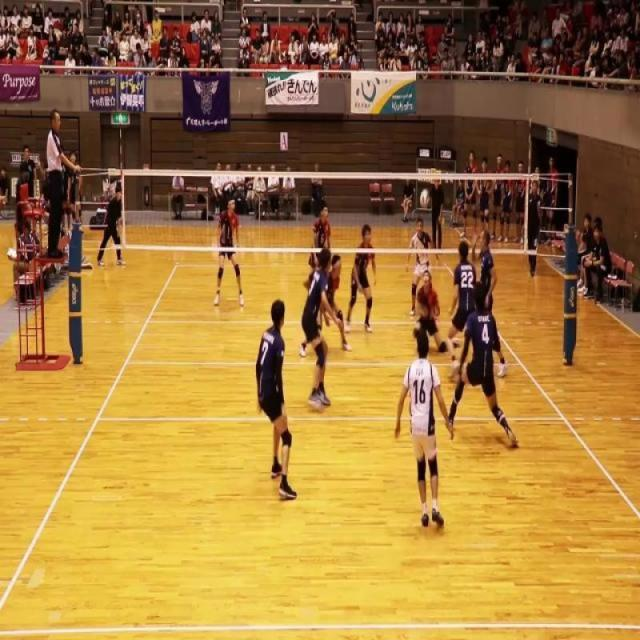volleyball: (420, 187, 429, 210)
